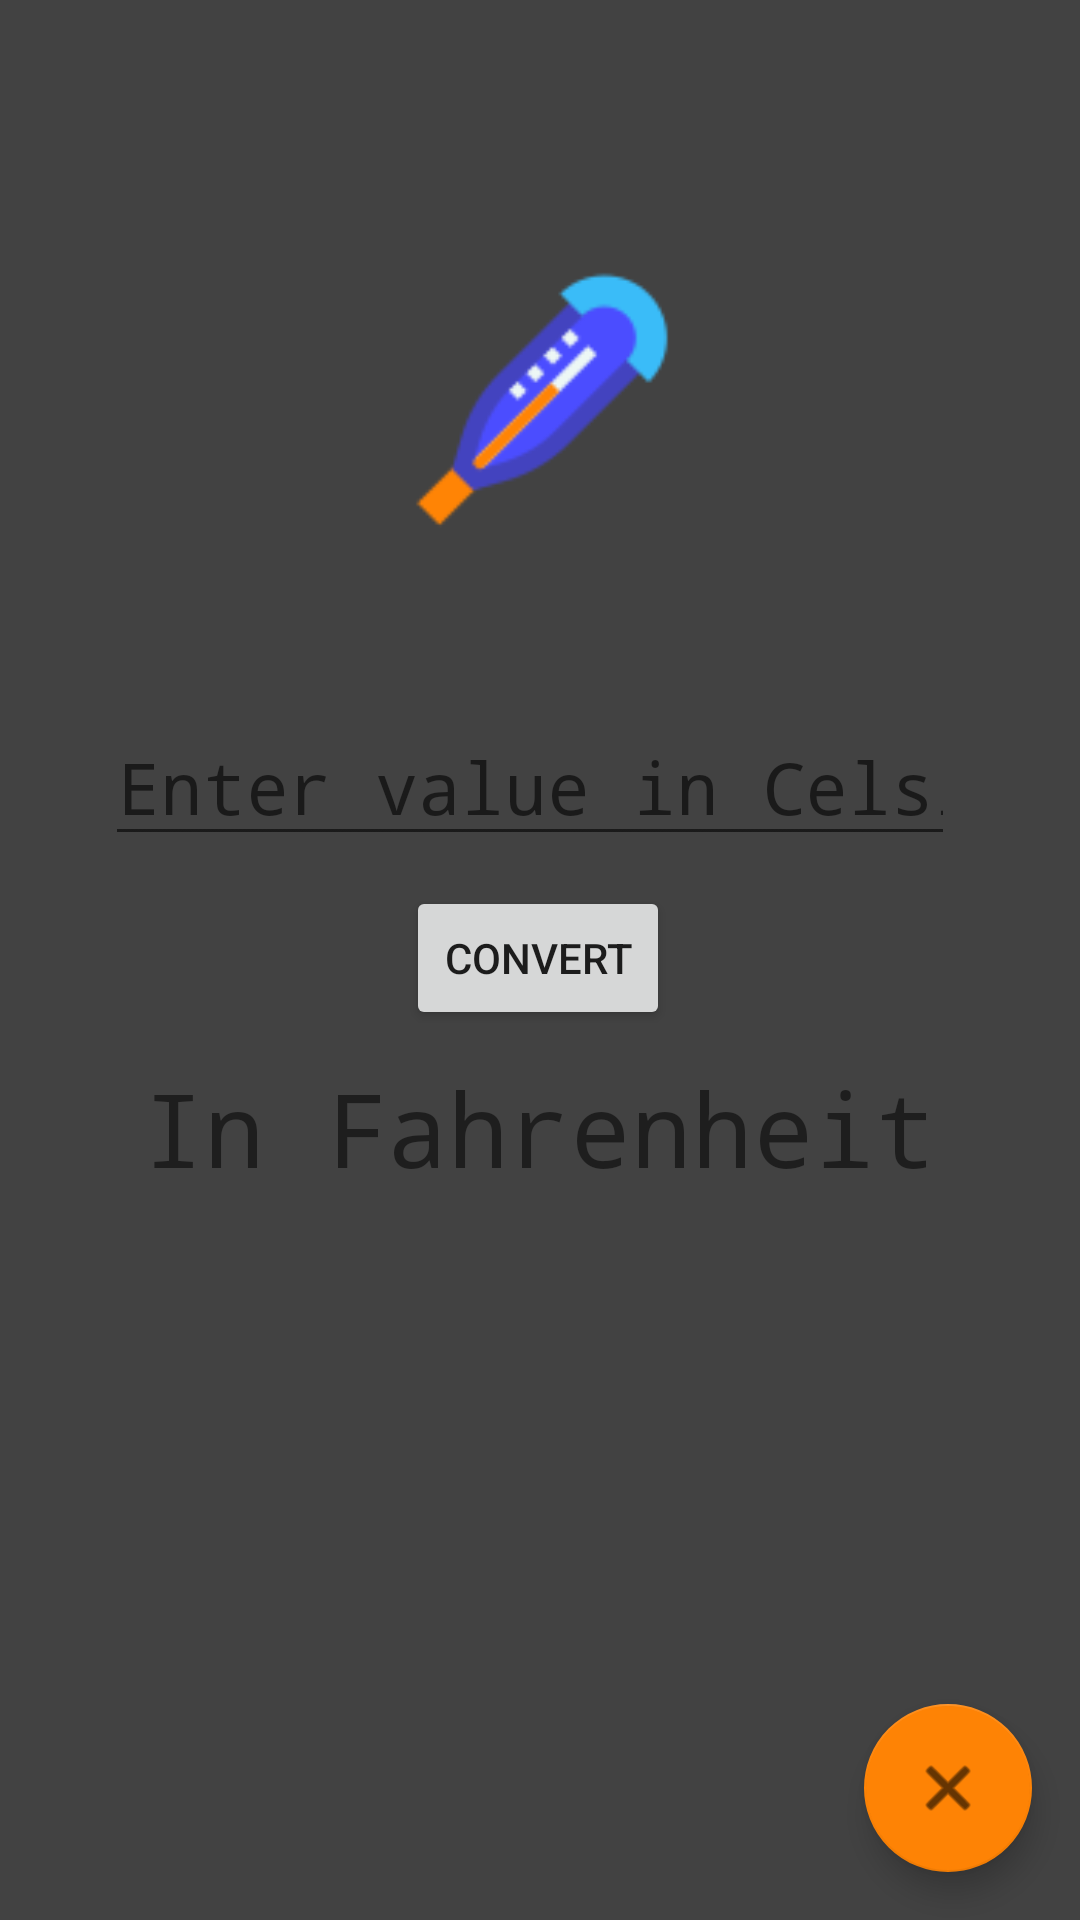

Icon bounding boxes for this 1080*1920 phone screenshot, format detection(x1, y1, x2, y2):
close clear cancel: detection(864, 1704, 1032, 1872)
